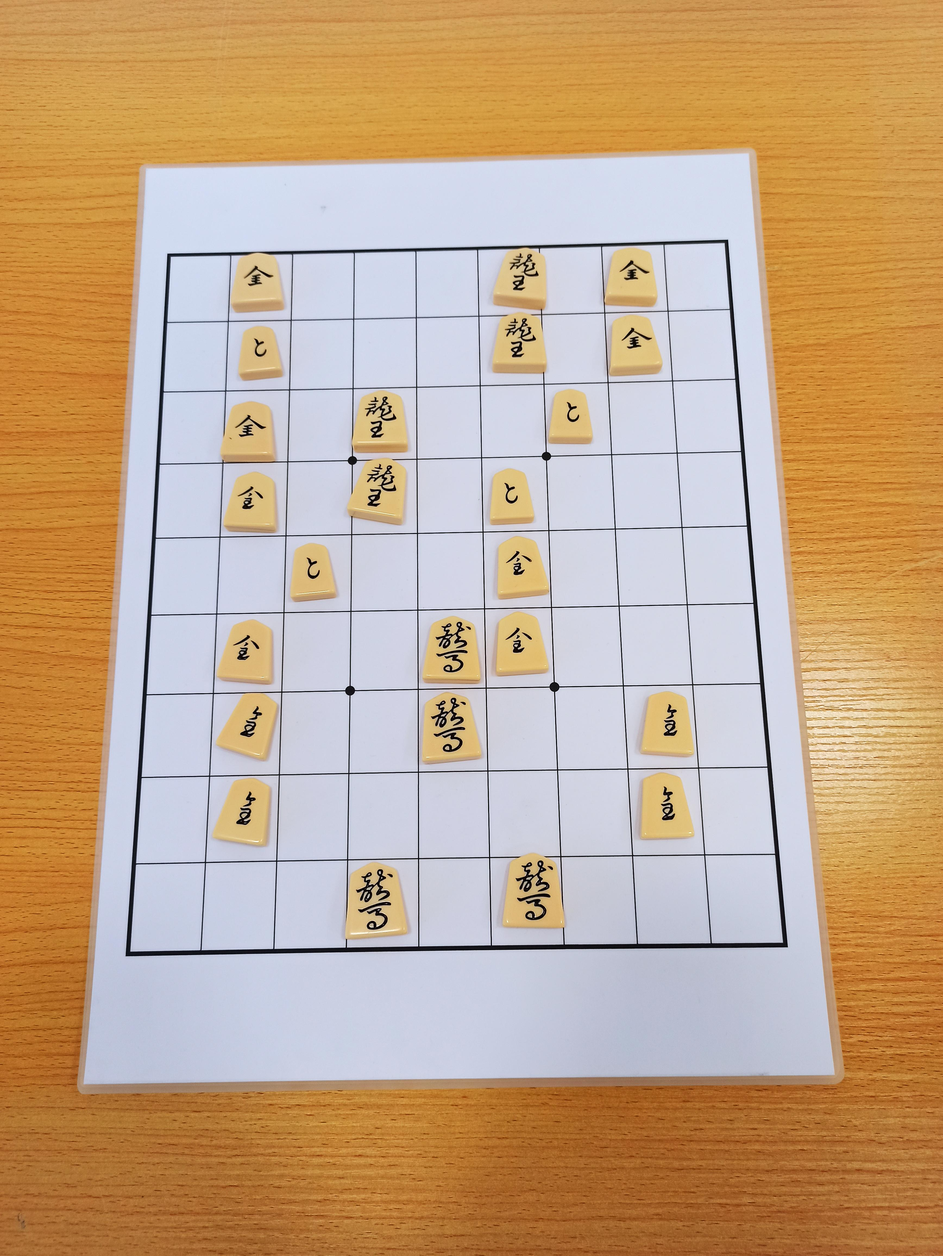board: (128, 241, 786, 954)
